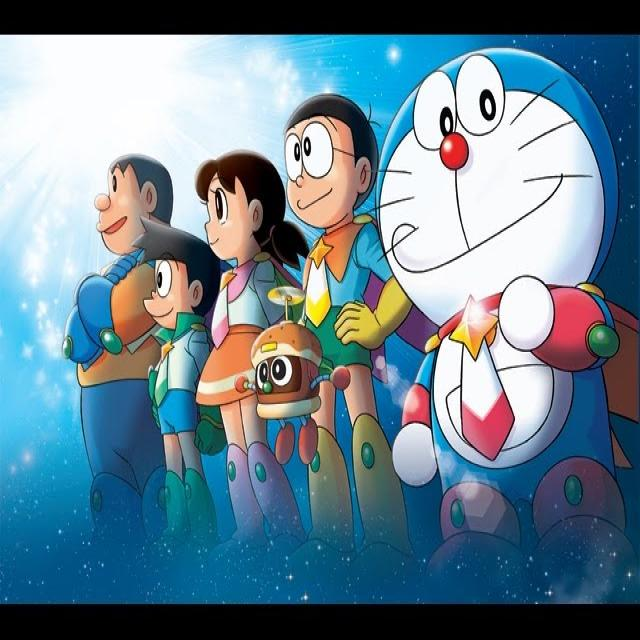doraemon: (365, 43, 606, 397)
jaian: (88, 150, 177, 262)
nobita: (272, 90, 387, 254)
shizuka: (188, 144, 290, 303)
suneo: (129, 212, 219, 363)
